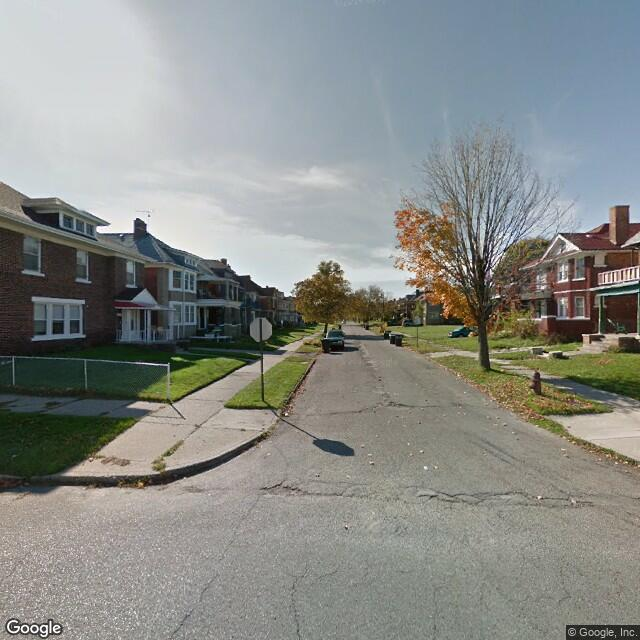litter: (133, 480, 150, 490), (282, 408, 292, 418), (366, 462, 378, 468), (603, 452, 612, 460), (498, 422, 508, 429), (534, 494, 545, 500), (416, 449, 427, 455), (356, 443, 368, 448), (621, 458, 628, 466), (19, 483, 30, 488), (363, 452, 373, 457), (423, 466, 429, 473), (558, 448, 566, 453), (88, 457, 96, 462), (435, 463, 441, 469)
